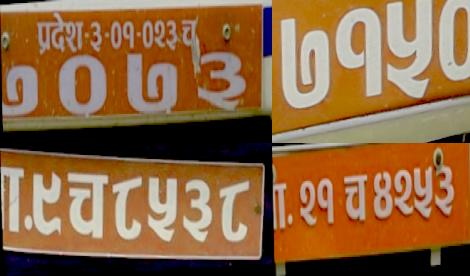0: (56, 50, 108, 120), (433, 0, 470, 91), (141, 20, 153, 54), (109, 19, 121, 52)
1: (330, 2, 388, 111), (316, 174, 337, 232), (120, 18, 136, 52)
2: (392, 165, 414, 228), (297, 177, 317, 230), (153, 19, 165, 53)
3: (193, 48, 248, 118), (179, 175, 213, 246), (433, 162, 456, 223), (88, 21, 103, 56), (165, 17, 178, 54)
4: (371, 167, 394, 228)
5: (381, 0, 439, 107), (143, 173, 180, 244), (412, 162, 434, 225)
7: (276, 7, 335, 116), (123, 46, 180, 118), (1, 44, 39, 122)
8: (213, 177, 252, 247), (110, 175, 144, 243)
9: (30, 162, 63, 240)
ba: (0, 158, 26, 243), (272, 176, 289, 238)
cha: (64, 166, 110, 245), (340, 169, 370, 231), (180, 15, 198, 53)
